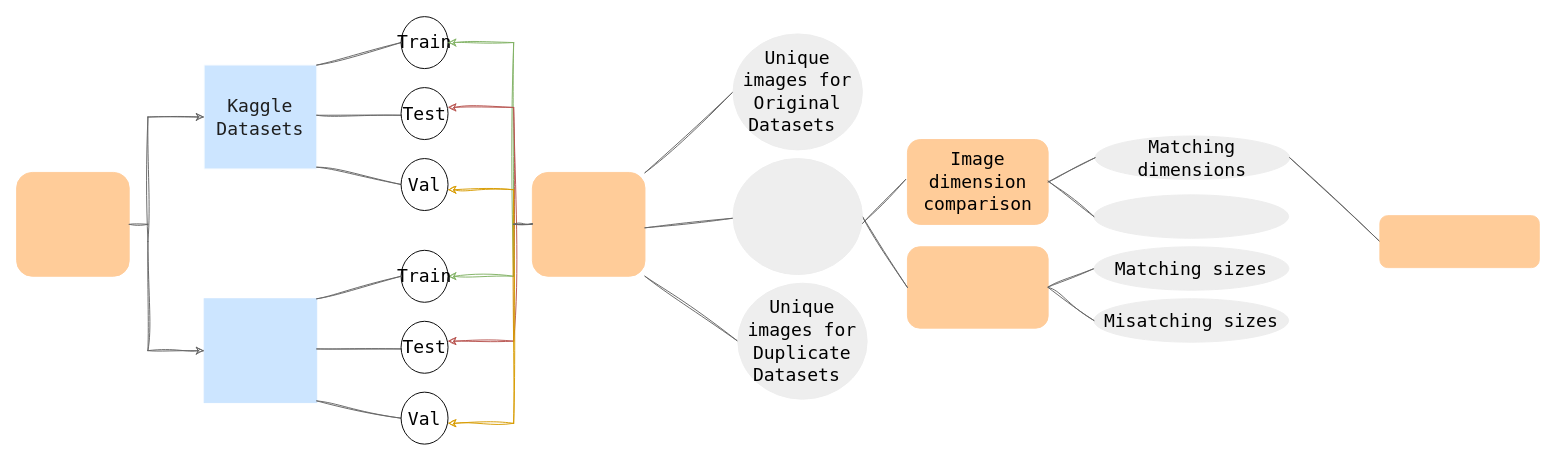
Image size: 1556x461. Some labels were removed from this diagram. Each missing label, with the centre of its shape:
"Common Images" goes at point (797, 216).
"Hashing technique comparison" goes at point (72, 223).
"Image count comparison on filename matching" goes at point (588, 223).
"Image size comparison" goes at point (977, 287).
"Misatching dimensions" goes at point (1191, 216).
"Original Datasets" goes at point (260, 350).
"Pixel by Pixel comparison" goes at point (1459, 241).
